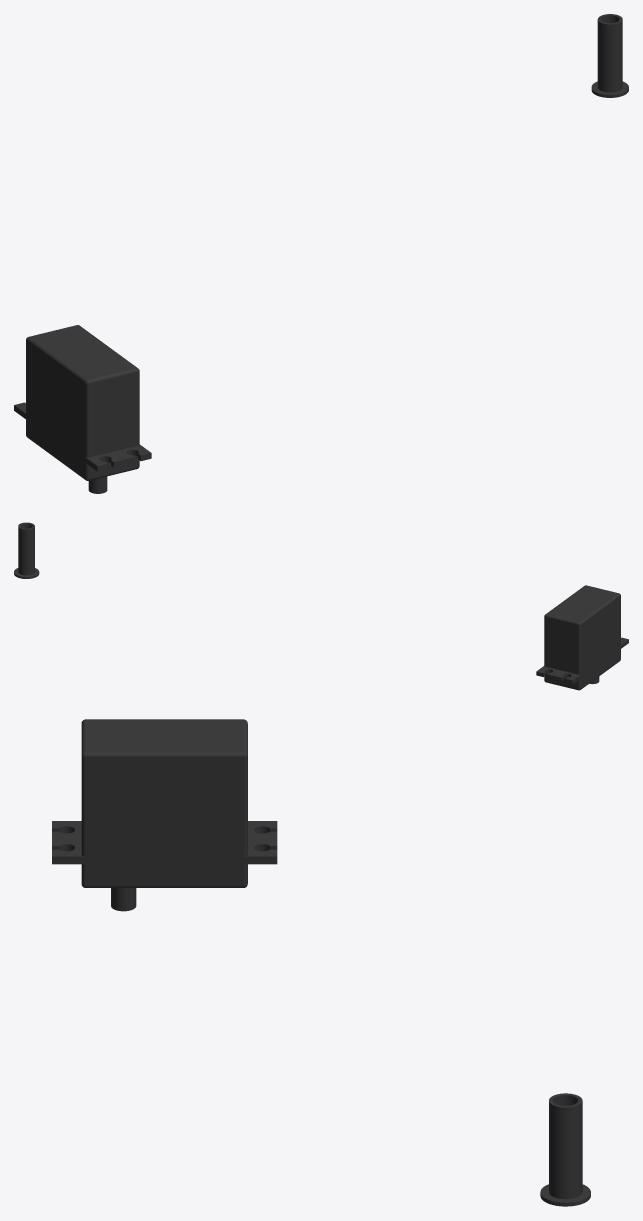
Rendered from left_rocker_link_parts.dae.
The picture shows the model from 3 angles, top to bottom: view 1: azimuth 30°, elevation 25°; view 2: azimuth 150°, elevation 25°; view 3: azimuth 270°, elevation 25°; orthographic projection. The views are drawn at different scales.
Parts seen in each view (by area): view 1: l_rocker_link_-_GWS_s35t_std-3; view 2: l_rocker_link_-_GWS_s35t_std-3; view 3: l_rocker_link_-_GWS_s35t_std-3.
Part boxes in pixels (x1,y1,x2,y2): l_rocker_link_-_GWS_s35t_std-3: [14, 14, 628, 493]; l_rocker_link_-_GWS_s35t_std-3: [14, 522, 628, 690]; l_rocker_link_-_GWS_s35t_std-3: [52, 719, 590, 1206].
Bounding box in the file's own units: 0.266 × 0.128 × 0.0656.
Materials: 1 (1 with a texture image).
